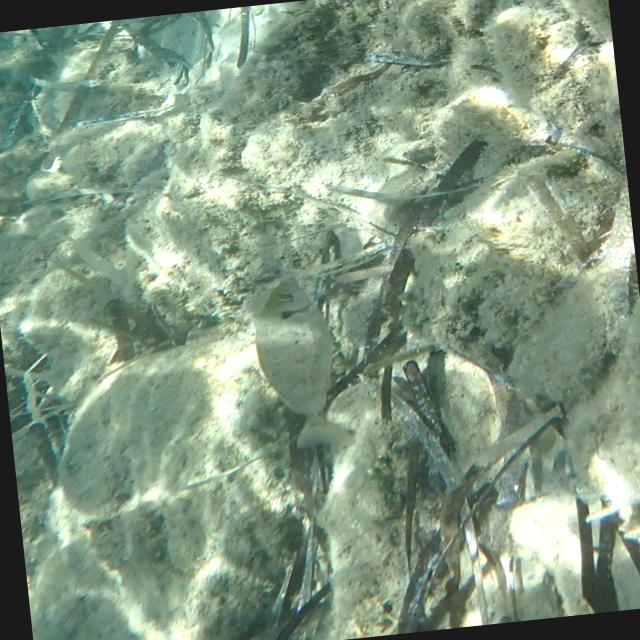Sokar Baligi: (238, 266, 363, 464)
